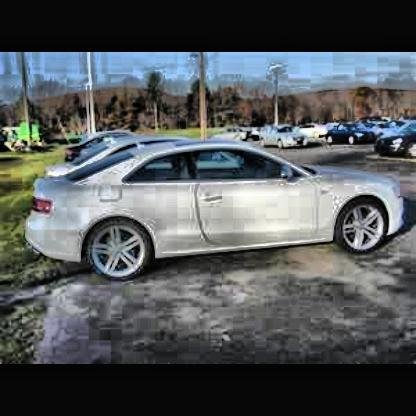Audi S5 Coupe 2012: (23, 136, 409, 282)
